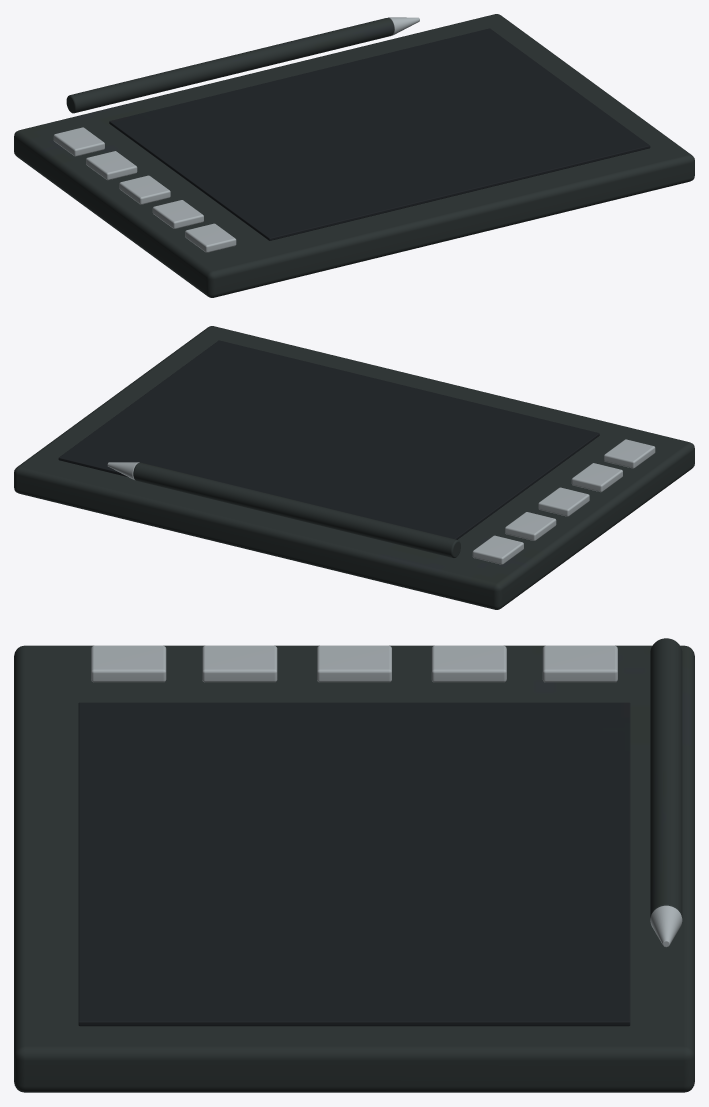
File: tablet.glb
3 renders of one model, top to bottom at view 1: azimuth 30°, elevation 25°; view 2: azimuth 150°, elevation 25°; view 3: azimuth 270°, elevation 25°, orthographic. The views are drawn at different scales.
Visible parts, largest first — view 1: Matte active drawing surface, Docked drawing stylus, Stylus nib; view 2: Matte active drawing surface, Docked drawing stylus, Stylus nib; view 3: Matte active drawing surface, Docked drawing stylus, Stylus nib.
Boxes of the visible parts, x1,y1,x2,y2 form: Matte active drawing surface: (109, 28, 650, 240); Docked drawing stylus: (14, 14, 694, 297); Stylus nib: (53, 17, 419, 252); Matte active drawing surface: (58, 340, 599, 539); Docked drawing stylus: (14, 326, 694, 609); Stylus nib: (107, 439, 655, 564); Matte active drawing surface: (78, 702, 630, 1026); Docked drawing stylus: (14, 638, 694, 1092); Stylus nib: (91, 645, 682, 947).
Bounding box in the file's own units: 0.27 × 0.0285 × 0.19.
Materials: 3 (3 with a texture image).
